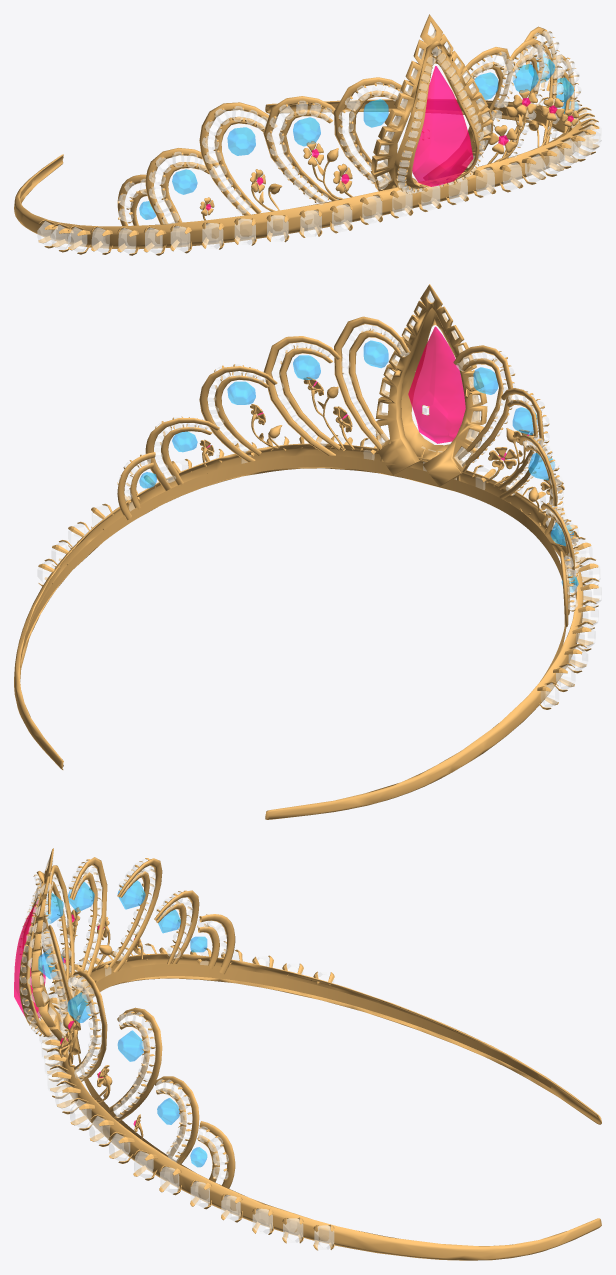
The model's file is Muspelheim_Three_Flames_Crown.glb.
The picture shows the model from 3 angles, top to bottom: view 1: azimuth 30°, elevation 25°; view 2: azimuth 150°, elevation 25°; view 3: azimuth 270°, elevation 25°; orthographic projection. The views are drawn at different scales.
Visible parts, largest first — view 1: Plane, Main_Jewel, Plane.004, Plane.284, Plane.003, BezierCurve.013, BezierCurve.007, BezierCurve.016, BezierCurve.014, BezierCurve, BezierCurve.006, BezierCurve.005 (+37 smaller); view 2: Plane, Main_Jewel, Plane.003, Plane.284, BezierCurve, BezierCurve.006, Plane.004, BezierCurve.005, BezierCurve.016, BezierCurve.004, BezierCurve.007, BezierCurve.003 (+2 smaller); view 3: Plane, Plane.003, BezierCurve.005, Plane.004, BezierCurve.013, BezierCurve.007, BezierCurve.004, BezierCurve.006, BezierCurve.016, BezierCurve.014, BezierCurve.015, BezierCurve.003 (+12 smaller).
Part boxes in pixels (bbox=[...]): Plane: bbox=[14, 99, 582, 249]; Main_Jewel: bbox=[412, 66, 473, 186]; Plane.004: bbox=[394, 41, 482, 192]; Plane.284: bbox=[370, 14, 433, 191]; Plane.003: bbox=[423, 15, 493, 179]; BezierCurve.013: bbox=[199, 102, 277, 215]; BezierCurve.007: bbox=[263, 96, 337, 203]; BezierCurve.016: bbox=[334, 77, 405, 188]; BezierCurve.014: bbox=[145, 148, 218, 224]; BezierCurve: bbox=[462, 47, 513, 129]; BezierCurve.006: bbox=[502, 38, 543, 158]; BezierCurve.005: bbox=[519, 26, 557, 144]; Plane: bbox=[14, 443, 583, 819]; Main_Jewel: bbox=[408, 326, 465, 443]; Plane.003: bbox=[375, 285, 432, 475]; Plane.284: bbox=[422, 284, 487, 486]; BezierCurve: bbox=[334, 316, 409, 461]; BezierCurve.006: bbox=[263, 336, 340, 455]; Plane.004: bbox=[401, 301, 480, 461]; BezierCurve.005: bbox=[199, 366, 277, 462]; BezierCurve.016: bbox=[453, 345, 512, 480]; BezierCurve.004: bbox=[145, 418, 219, 491]; BezierCurve.007: bbox=[499, 388, 544, 499]; BezierCurve.003: bbox=[117, 452, 155, 519]; Plane: bbox=[57, 953, 601, 1260]; Plane.003: bbox=[27, 848, 80, 1055]; BezierCurve.005: bbox=[109, 1007, 162, 1121]; Plane.004: bbox=[19, 871, 53, 1037]; BezierCurve.013: bbox=[109, 858, 162, 972]; BezierCurve.007: bbox=[69, 857, 107, 997]; BezierCurve.004: bbox=[154, 1076, 199, 1164]; BezierCurve.006: bbox=[70, 970, 107, 1081]; BezierCurve.016: bbox=[48, 865, 74, 996]; BezierCurve.014: bbox=[154, 890, 199, 965]; BezierCurve.015: bbox=[198, 914, 235, 974]; BezierCurve.003: bbox=[198, 1121, 235, 1188].
Size of the model in its own units: 0.6216 by 0.3625 by 0.5894.
